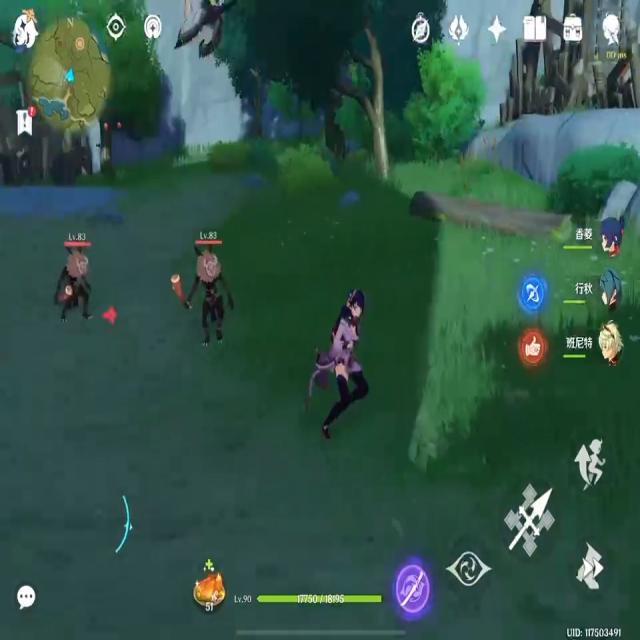genshin-hilichurls: (175, 248, 234, 346), (56, 249, 95, 323)
